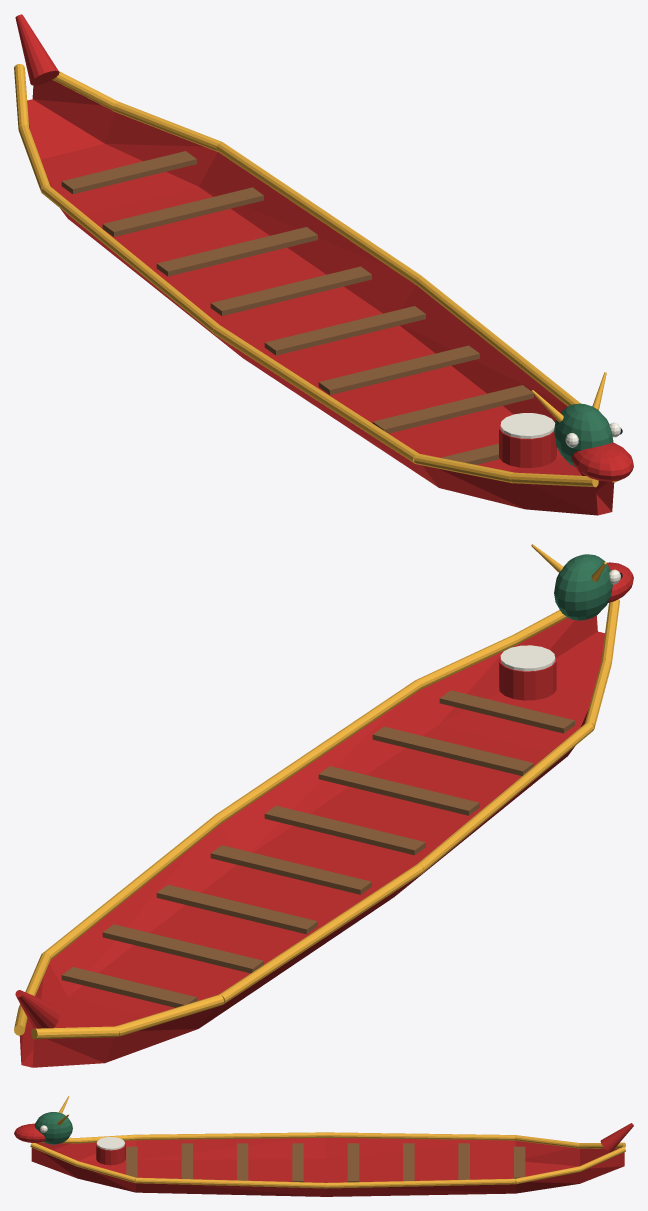
The model's file is scendance-plan-cn-dragon-boat.glb.
The picture shows the model from 3 angles, top to bottom: view 1: azimuth 30°, elevation 25°; view 2: azimuth 150°, elevation 25°; view 3: azimuth 270°, elevation 25°; orthographic projection. The views are drawn at different scales.
Size of the model in its own units: 1.55 by 0.9957 by 7.68.
